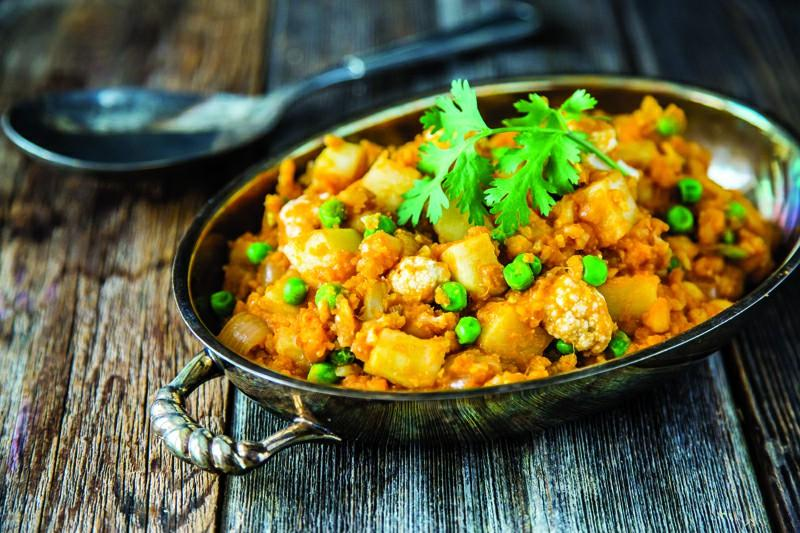AlooMasala: (210, 95, 773, 391)
